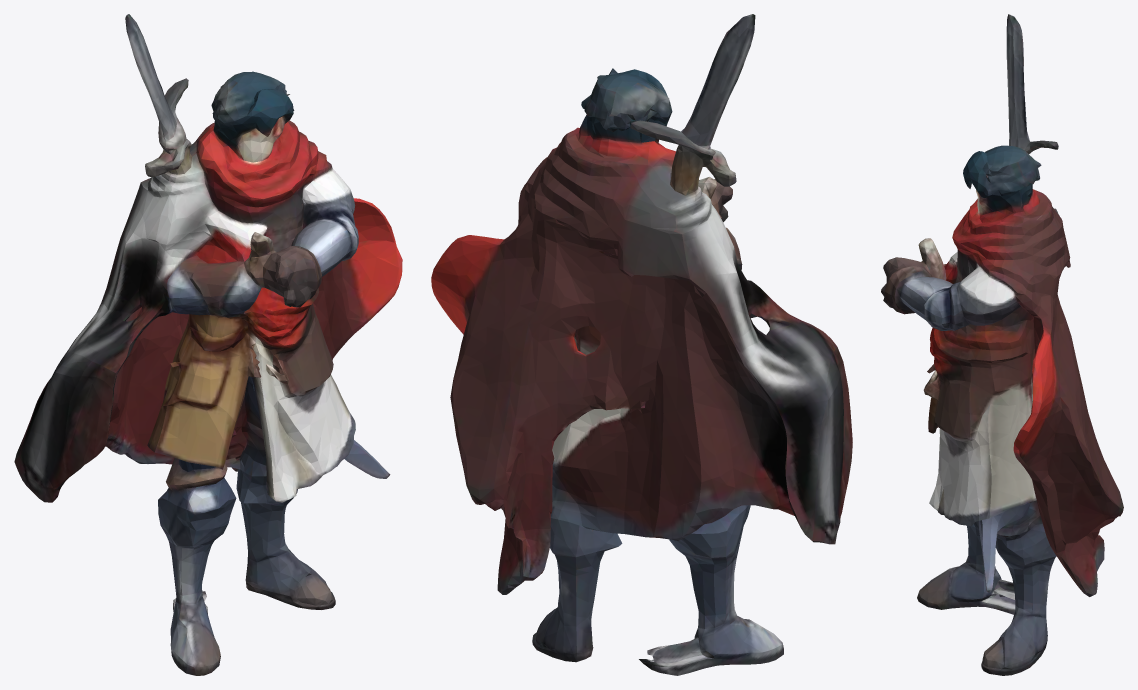
Rendered from anime_medieval_warrior.glb.
The picture shows the model from 3 angles, left to right: view 1: azimuth 30°, elevation 25°; view 2: azimuth 150°, elevation 25°; view 3: azimuth 270°, elevation 25°; orthographic projection. The views are drawn at different scales.
Parts seen in each view (by area): view 1: geometry_0; view 2: geometry_0; view 3: geometry_0.
Part boxes in pixels (x1=…): geometry_0: x1=14, y1=14, x2=402, y2=675; geometry_0: x1=431, y1=14, x2=852, y2=675; geometry_0: x1=881, y1=14, x2=1123, y2=675.
Size of the model in its own units: 0.6171 by 0.9988 by 0.3844.
1 material, 1 textured.
